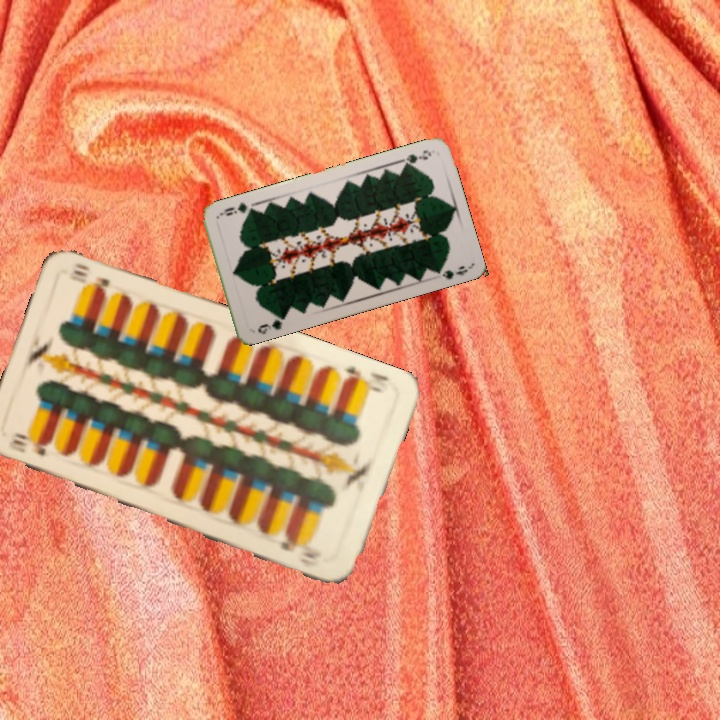E10: (339, 362, 391, 396), (4, 435, 49, 459)
G9: (253, 312, 288, 337), (396, 146, 434, 169)
